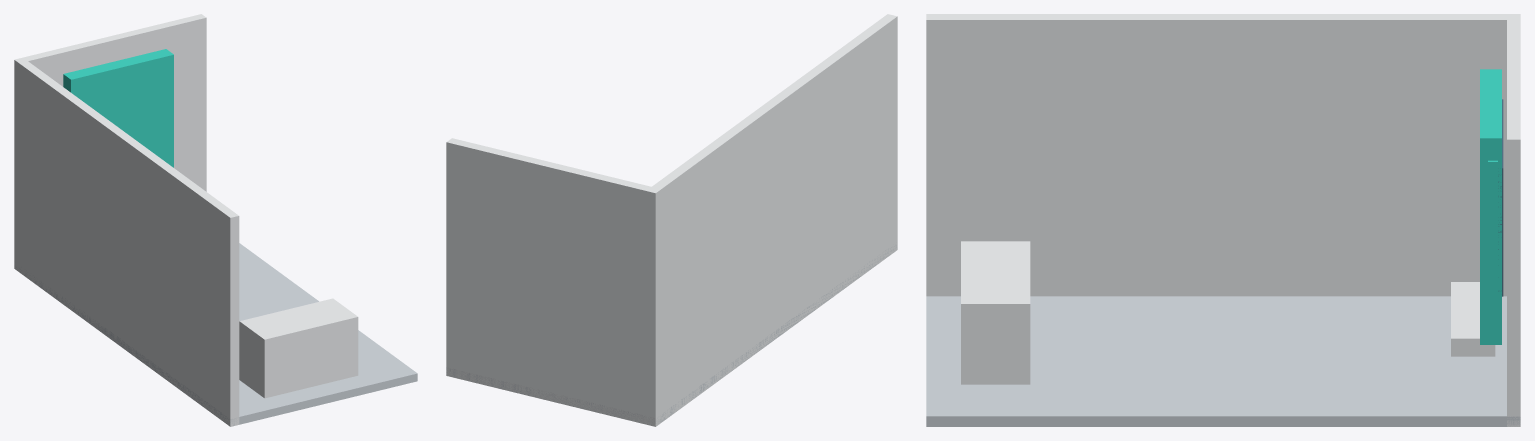
3 views of the same model, side by side, from view 1: azimuth 30°, elevation 25°; view 2: azimuth 150°, elevation 25°; view 3: azimuth 270°, elevation 25° (orthographic). The views are drawn at different scales.
Visible parts, largest first — view 1: Exhibition Booth Concept; view 2: Exhibition Booth Concept; view 3: Exhibition Booth Concept.
Part boxes in pixels (left/top/right/bottom): Exhibition Booth Concept: left=14, top=14, right=417, bottom=426; Exhibition Booth Concept: left=446, top=14, right=897, bottom=426; Exhibition Booth Concept: left=926, top=14, right=1520, bottom=426.
Bounding box in the file's own units: 3 × 3.2 × 6.
